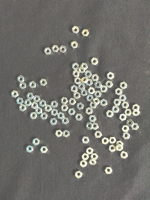nut: (121, 151, 129, 160), (75, 171, 83, 179), (105, 167, 113, 175), (91, 153, 99, 161), (116, 144, 124, 152), (109, 137, 117, 145), (94, 131, 102, 139), (89, 115, 97, 123), (50, 118, 58, 126), (57, 112, 65, 120), (30, 112, 38, 120), (35, 107, 43, 115), (39, 100, 47, 108), (33, 95, 41, 103), (19, 104, 27, 112), (106, 110, 114, 118), (88, 87, 96, 95), (115, 88, 123, 96), (120, 82, 128, 90), (107, 72, 115, 80), (92, 74, 100, 82), (72, 70, 80, 78), (72, 26, 80, 34), (126, 120, 135, 127), (131, 124, 140, 131), (89, 102, 98, 109), (26, 146, 34, 153), (40, 147, 48, 154), (33, 138, 40, 146), (89, 159, 97, 166), (86, 148, 94, 155), (56, 130, 63, 138), (63, 130, 70, 138), (82, 137, 90, 144), (109, 145, 116, 153), (123, 133, 131, 140), (122, 126, 130, 133), (86, 123, 94, 130), (92, 123, 99, 131), (62, 117, 69, 125), (51, 109, 58, 117), (40, 113, 48, 120), (75, 114, 83, 121), (120, 114, 127, 122), (61, 105, 69, 112), (61, 97, 68, 105), (31, 102, 38, 110), (24, 100, 32, 107), (26, 93, 34, 100), (16, 98, 24, 105), (19, 82, 26, 90), (17, 76, 25, 83), (29, 81, 36, 89), (40, 79, 48, 86), (68, 109, 76, 116), (69, 98, 76, 106), (125, 109, 132, 117), (133, 109, 141, 116), (112, 106, 120, 113), (122, 102, 130, 109), (114, 99, 122, 106), (119, 95, 127, 102), (93, 98, 101, 105), (101, 99, 108, 107), (86, 95, 94, 102), (81, 89, 88, 97), (71, 85, 78, 93), (78, 83, 85, 91), (100, 86, 108, 93), (106, 81, 114, 88), (95, 81, 102, 89), (86, 79, 94, 86), (75, 77, 82, 85), (81, 77, 89, 84), (81, 63, 89, 70), (72, 63, 79, 71), (91, 58, 99, 65), (44, 48, 52, 55), (52, 45, 59, 53), (59, 46, 67, 53), (71, 41, 78, 49), (82, 30, 90, 37), (80, 161, 87, 168), (82, 154, 89, 161), (117, 141, 124, 148), (102, 138, 109, 145), (51, 101, 58, 108), (45, 105, 52, 112), (11, 91, 18, 98), (86, 108, 93, 115), (77, 103, 84, 110), (133, 104, 140, 111), (74, 92, 81, 99), (95, 91, 102, 98), (85, 71, 92, 78), (79, 67, 86, 74)
